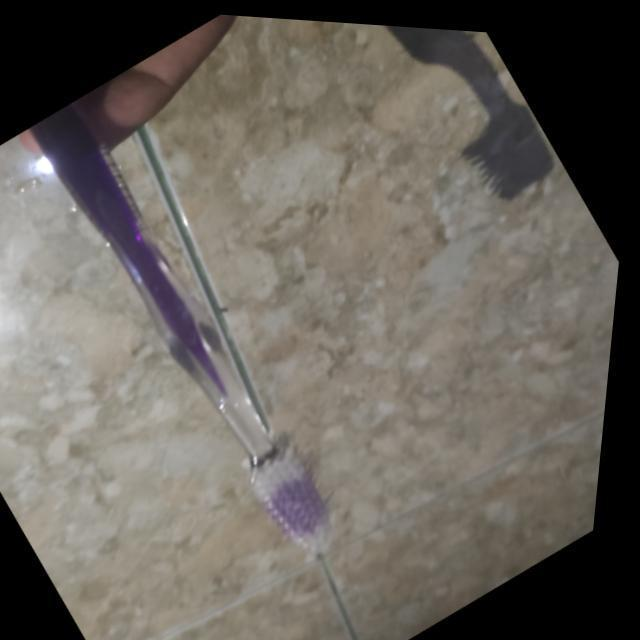toothbrush: (6, 92, 384, 570)
